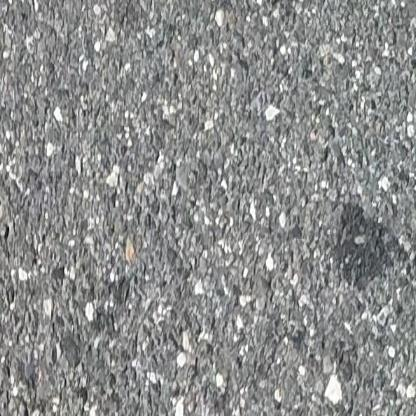Cracks: (0, 168, 6, 313)
